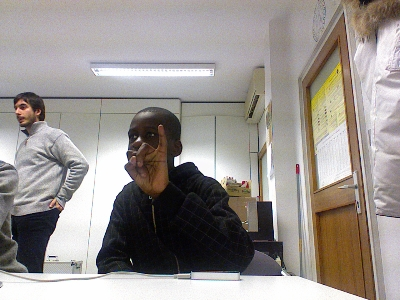小指: (122, 123, 169, 195)
